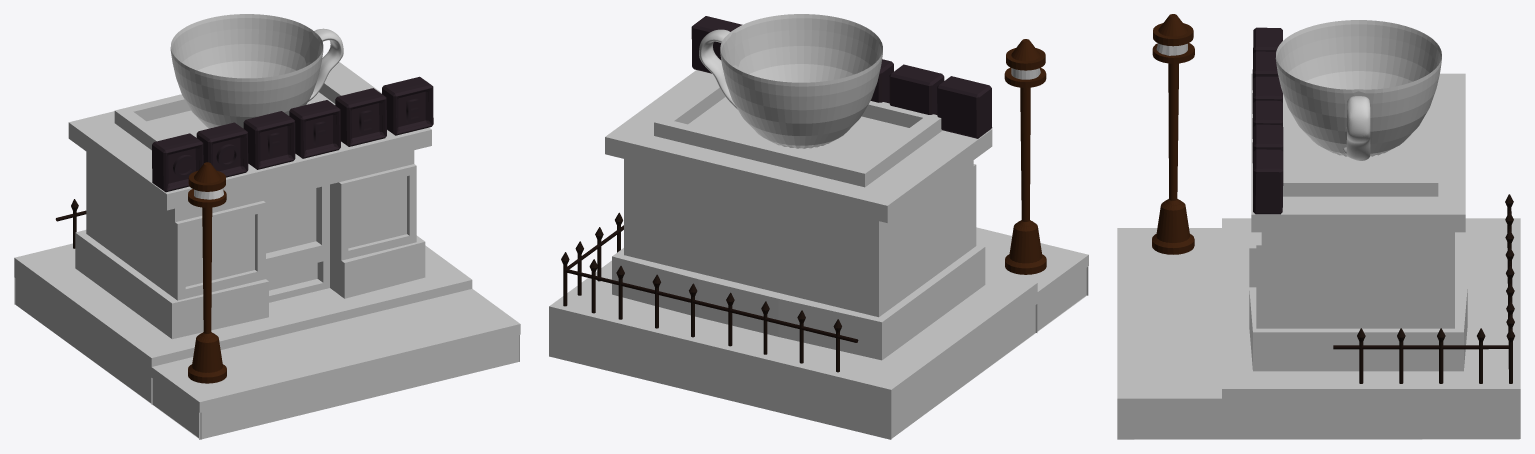
File: Coffee.obj
3 renders of one model, left to right at view 1: azimuth 30°, elevation 25°; view 2: azimuth 150°, elevation 25°; view 3: azimuth 270°, elevation 25°, orthographic. The views are drawn at different scales.
Visible parts, largest first — view 1: Plane, l, Circle, Plane.006, Plane.009, Plane.003, Plane.005, Plane.008, Plane.007, Plane.004; view 2: Plane, l, Circle, Plane.002, Plane.008, Plane.007, Plane.001, Plane.009, Plane.004, Plane.006; view 3: Plane, l, Circle, Plane.002, Plane.009, Plane.004, Plane.001, Plane.003, Plane.005, Plane.006, Plane.008, Plane.007.
Boxes of the visible parts, x1,y1,x2,y2 form: Plane: (14, 62, 520, 439); l: (170, 14, 323, 128); Circle: (188, 162, 226, 383); Plane.006: (243, 111, 295, 169); Plane.009: (382, 76, 433, 135); Plane.003: (335, 88, 386, 146); Plane.005: (289, 100, 340, 158); Plane.008: (152, 133, 203, 192); Plane.007: (196, 122, 248, 177); Plane.004: (308, 28, 343, 101); Plane: (549, 70, 1088, 439); l: (720, 14, 882, 148); Circle: (1004, 39, 1046, 274); Plane.002: (561, 212, 841, 372); Plane.008: (937, 76, 992, 138); Plane.007: (889, 64, 944, 114); Plane.001: (565, 225, 858, 342); Plane.009: (691, 16, 742, 73); Plane.004: (699, 29, 737, 109); Plane.006: (870, 59, 893, 103); Plane: (1117, 73, 1520, 439); l: (1275, 20, 1441, 156); Circle: (1152, 14, 1194, 254); Plane.002: (1357, 194, 1514, 383); Plane.009: (1253, 149, 1283, 214); Plane.004: (1343, 96, 1370, 160); Plane.001: (1333, 211, 1511, 349); Plane.003: (1253, 124, 1283, 184); Plane.005: (1252, 100, 1282, 162); Plane.006: (1252, 76, 1282, 138); Plane.008: (1252, 27, 1282, 89); Plane.007: (1252, 51, 1278, 113).
Bounding box in the file's own units: 10.59 × 8.66 × 10.6.
